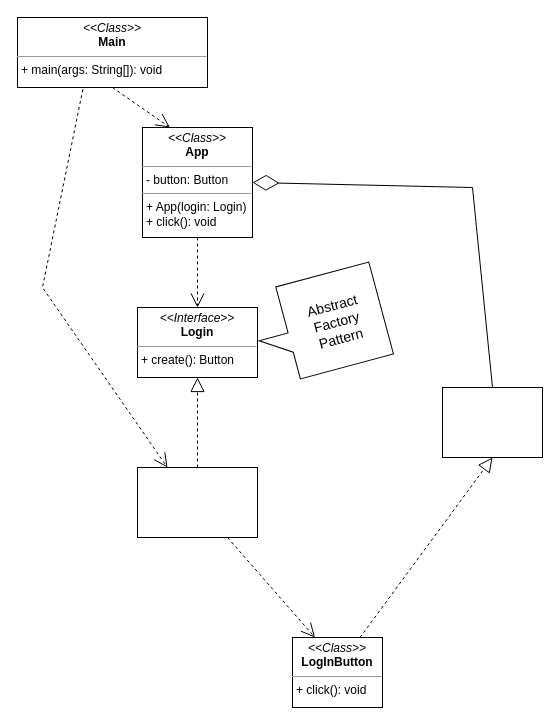
The diagram is 560 pixels wide and 725 high, and some of its shapes have lost their labels. Here are the shapes that lost their labels. From the top down, the centre of each, then its label:
the point at 492,422: <<Interface>> Button + click(): void
the point at 197,502: <<Class>> Steam +create(): Button
